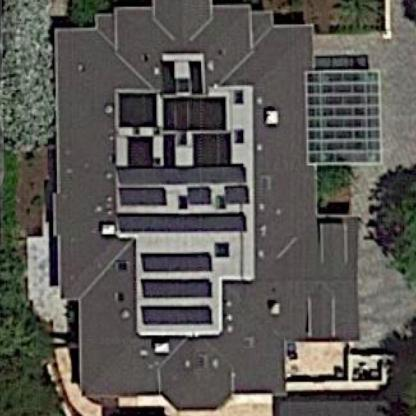solar_panel: (111, 155, 253, 237), (131, 246, 219, 336)
